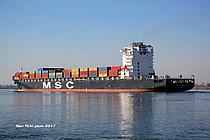Ship: (11, 37, 198, 99)
